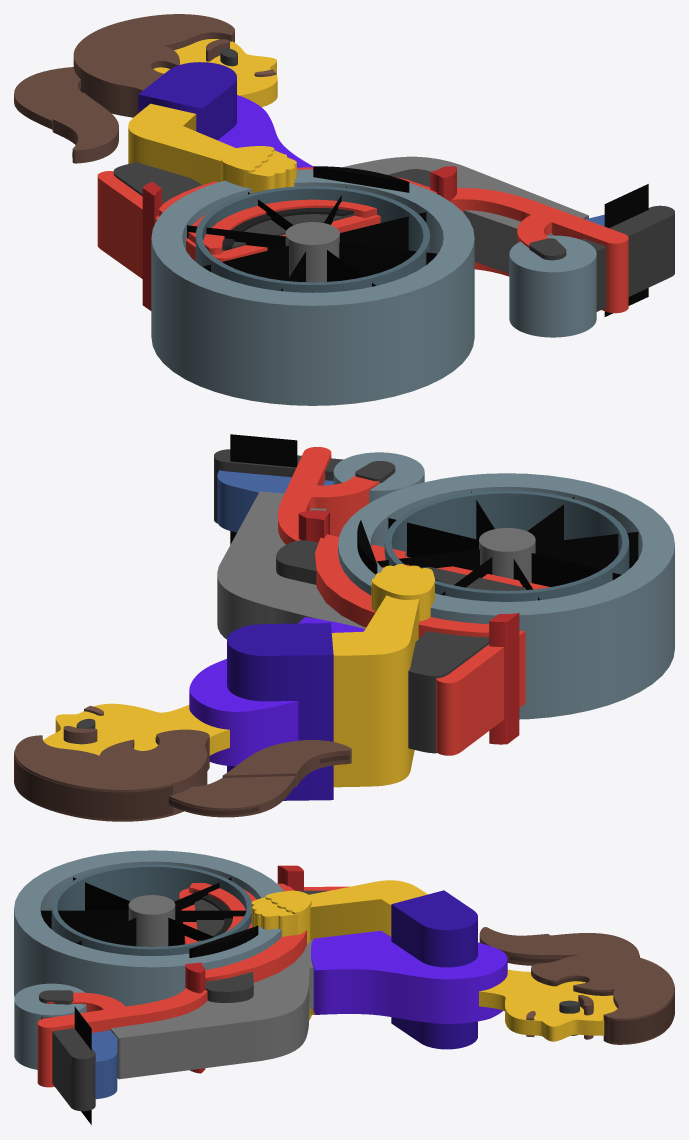
The model's file is emoji_u1f469_200d_1f9bd_200d_27a1.glb.
3 views of the same model, one above another, from view 1: azimuth 30°, elevation 25°; view 2: azimuth 150°, elevation 25°; view 3: azimuth 270°, elevation 25° (orthographic). The views are drawn at different scales.
Visible parts, largest first — view 1: emoji_u1f469_200d_1f9bd_200d_27a1; view 2: emoji_u1f469_200d_1f9bd_200d_27a1; view 3: emoji_u1f469_200d_1f9bd_200d_27a1.
Part boxes in pixels (x1,y1,x2,y2): emoji_u1f469_200d_1f9bd_200d_27a1: (14, 14, 674, 405); emoji_u1f469_200d_1f9bd_200d_27a1: (14, 434, 674, 821); emoji_u1f469_200d_1f9bd_200d_27a1: (14, 850, 674, 1124).
Size of the model in its own units: 0.0221 by 0.0064 by 0.0322.
